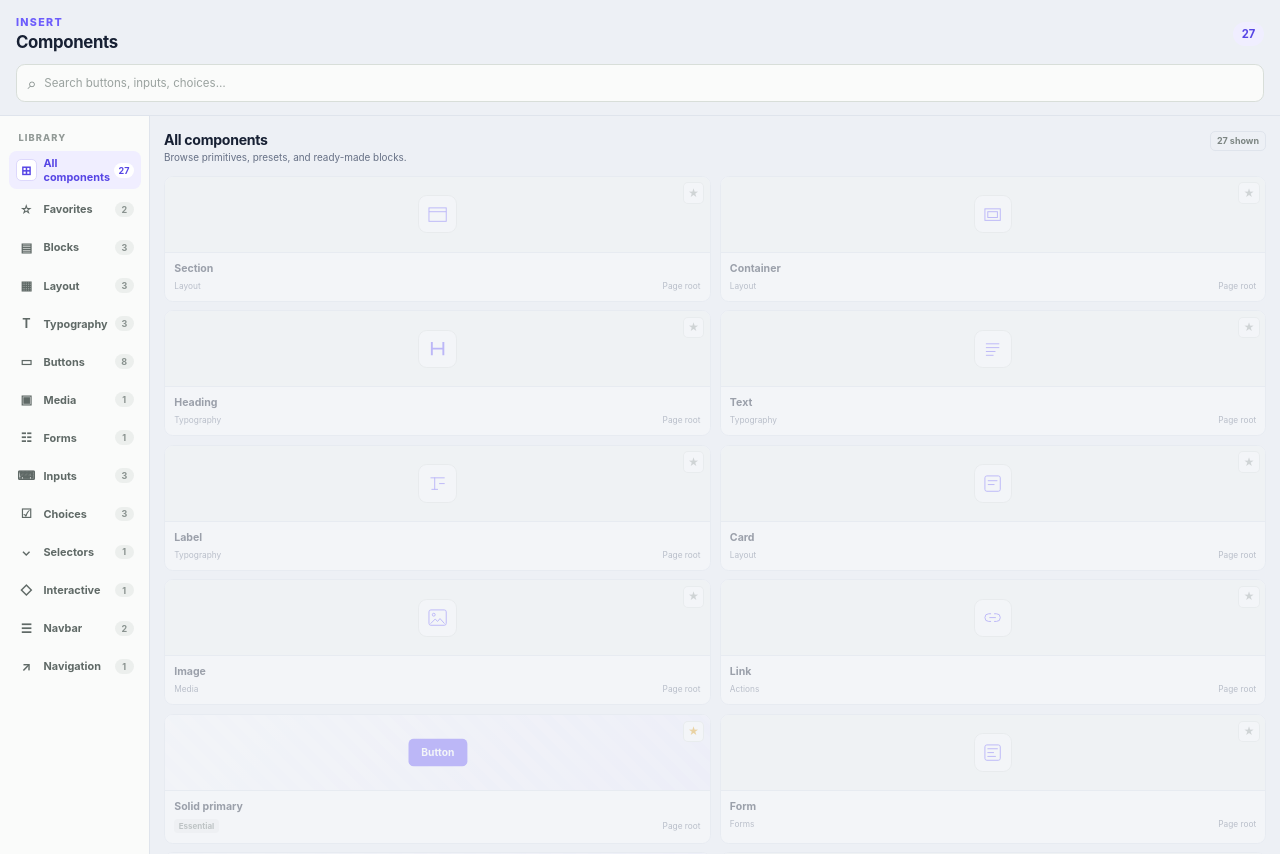
ComponentLibrary › search › should restore all results when the accessible clear action is used
Type "navbar" into the search field named "Search components".
click(649, 83); type("navbar")  # box [44,65,1253,101]
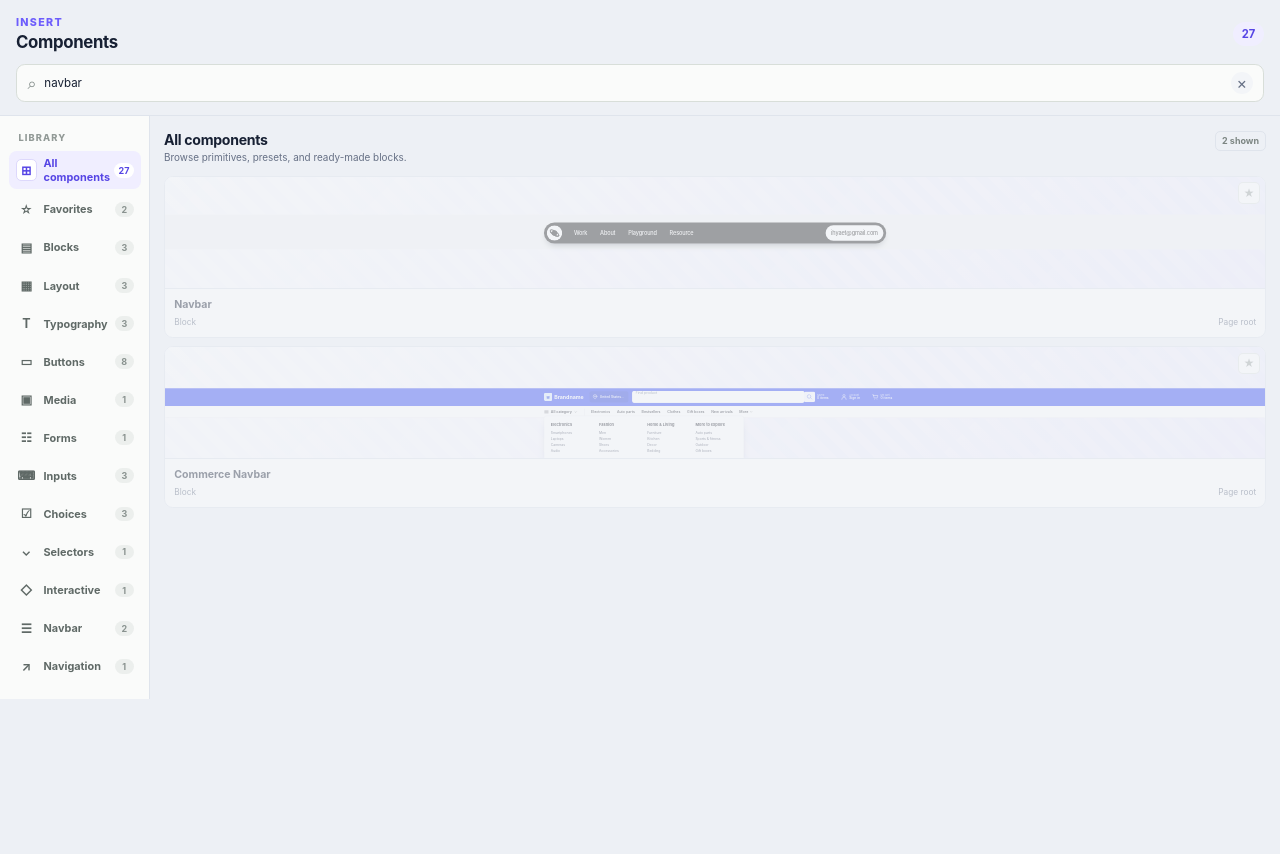
Click the button named "Clear component search".
click(1242, 83)  # box [1231,72,1253,94]
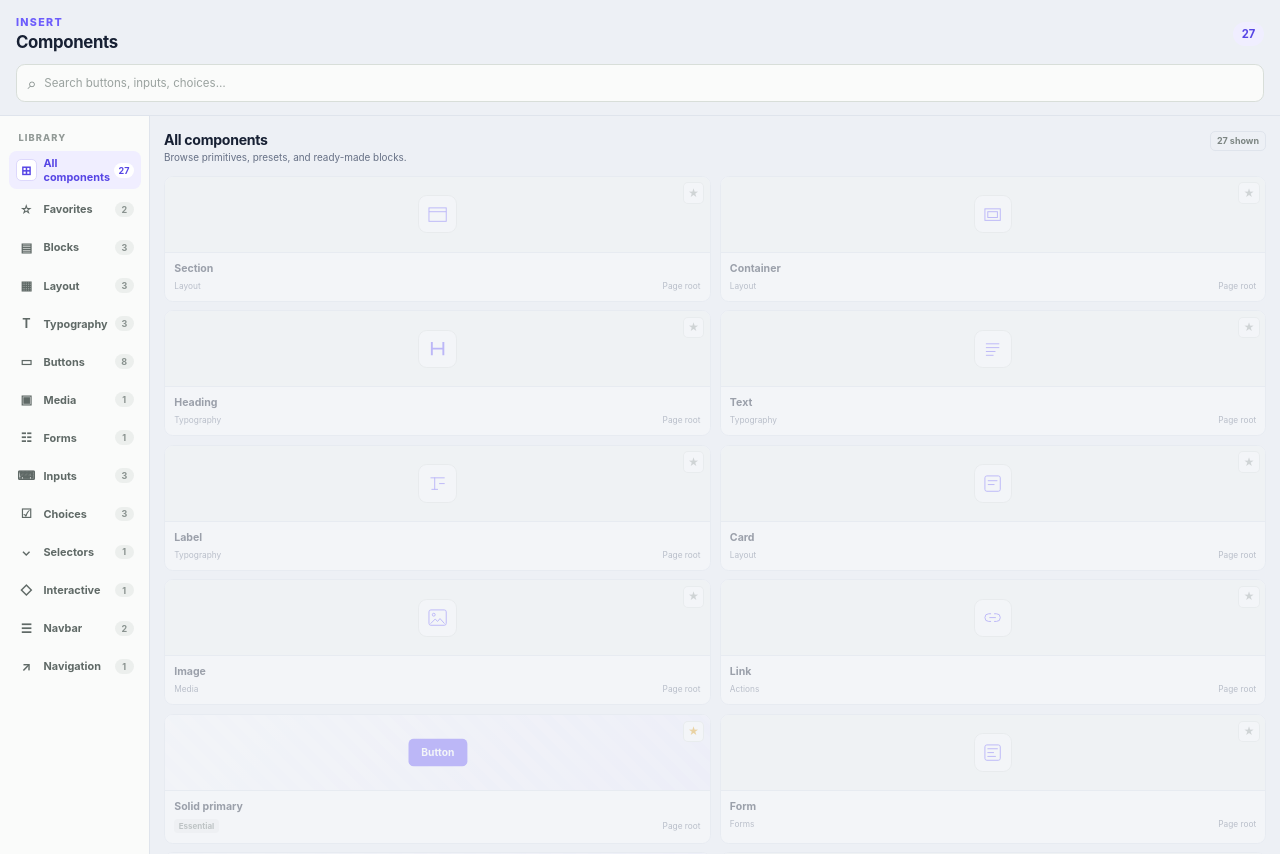
Now the search field named "Search components" is empty, box [44,65,1253,101]
Now the button with aria-label "Add Section" is shown, box [165,177,710,300]
